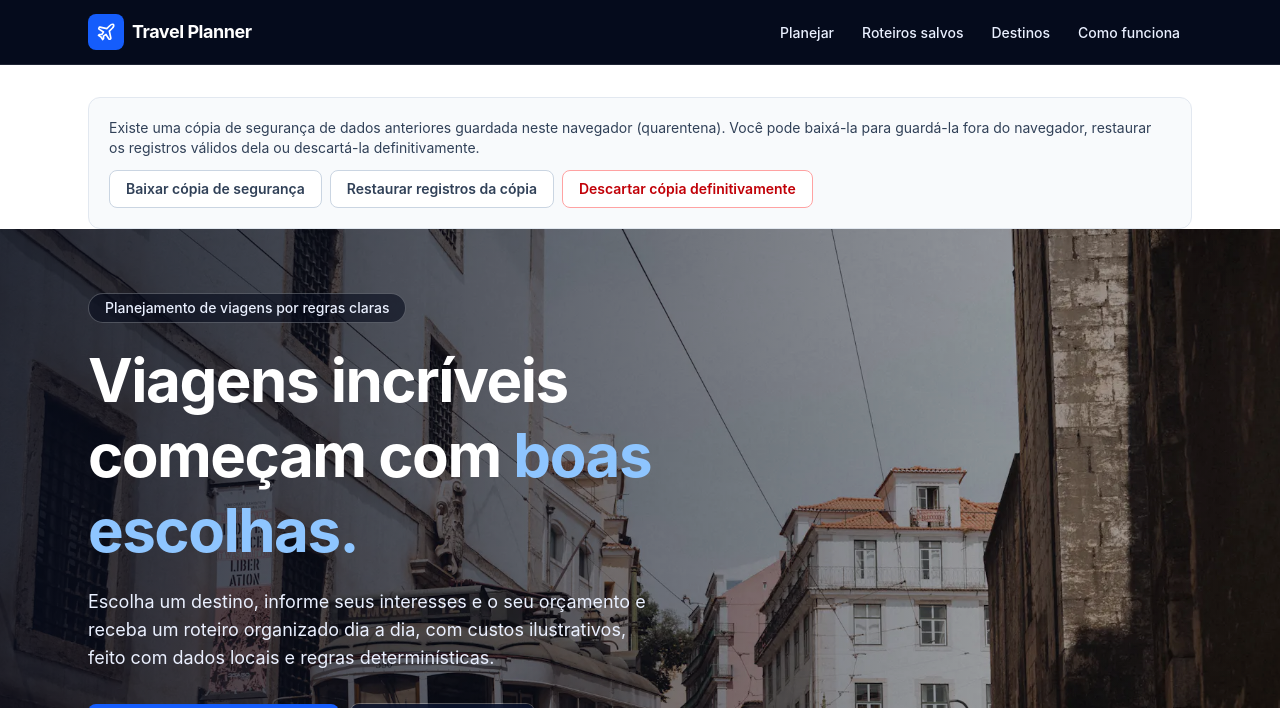
HomePage — interações de persistência (P3) › descarte definitivo da quarentena: confirmação explícita e remoção confirmada
This screenshot has width=1280, height=708.
Click the button "Descartar cópia definitivamente" at [687, 189], box x1=562 y1=170 x2=813 y2=208
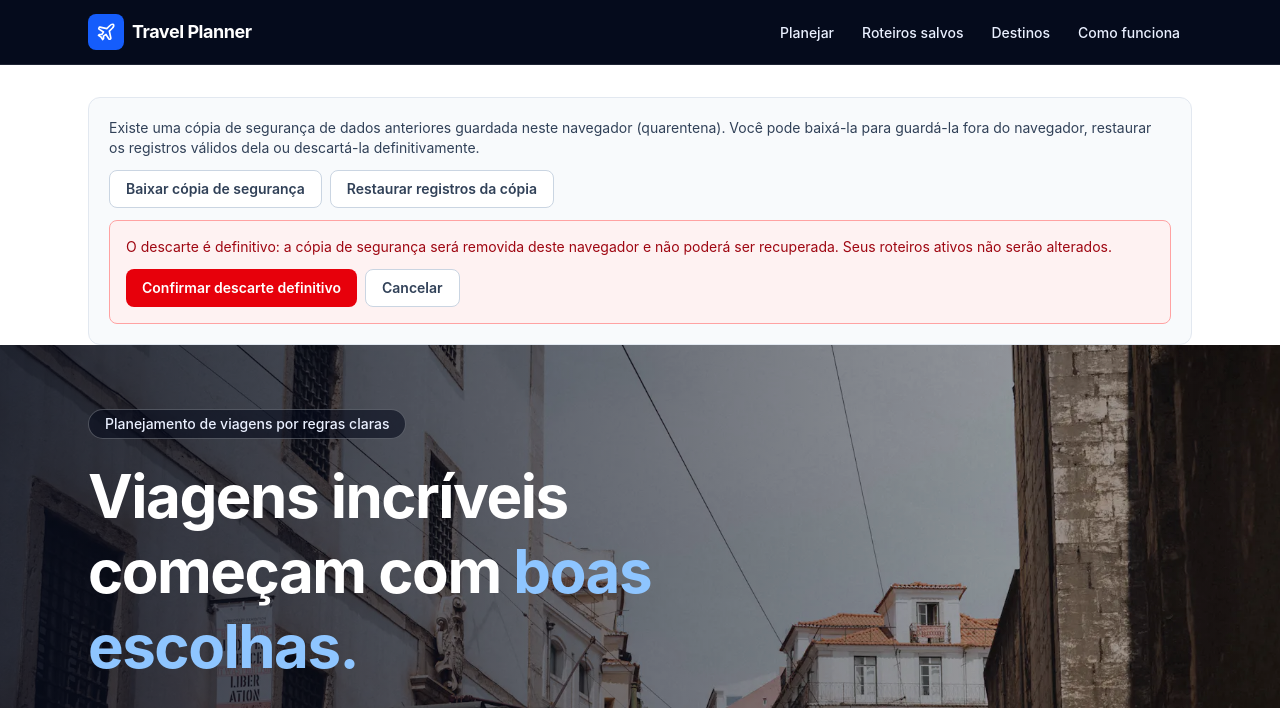
Result: the text "O descarte é definitivo" is shown at x1=126 y1=238 x2=1112 y2=255
Click the button "Confirmar descarte definitivo" at [242, 288], box x1=126 y1=269 x2=357 y2=307
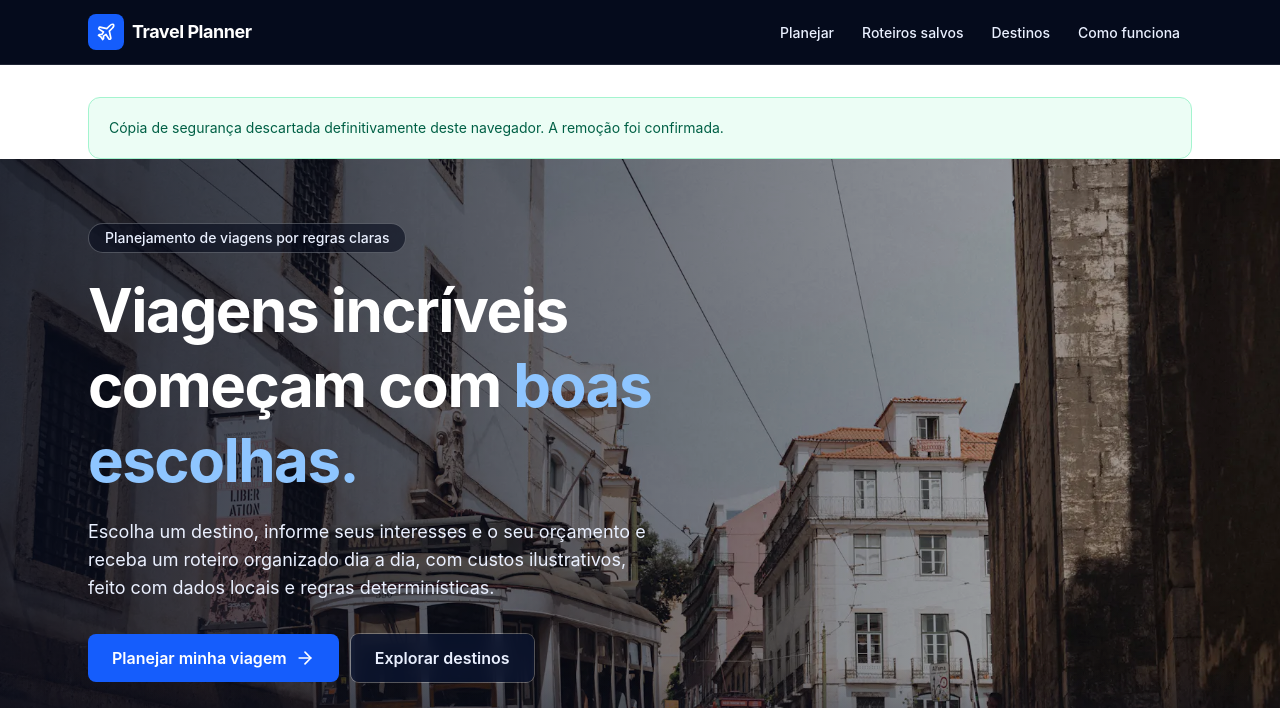
Result: the text "Cópia de segurança descartada definitivamente" is shown at x1=109 y1=119 x2=724 y2=136
Result: the text "Existe uma cópia de segurança" is gone
